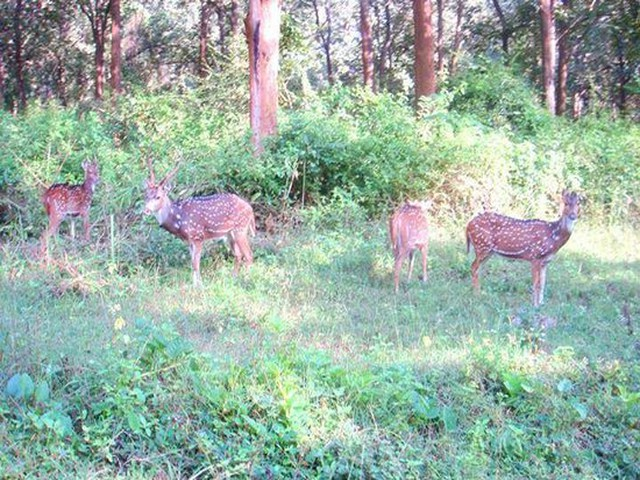deer: (139, 150, 262, 290), (463, 186, 586, 311), (38, 155, 104, 256), (387, 194, 432, 291)
